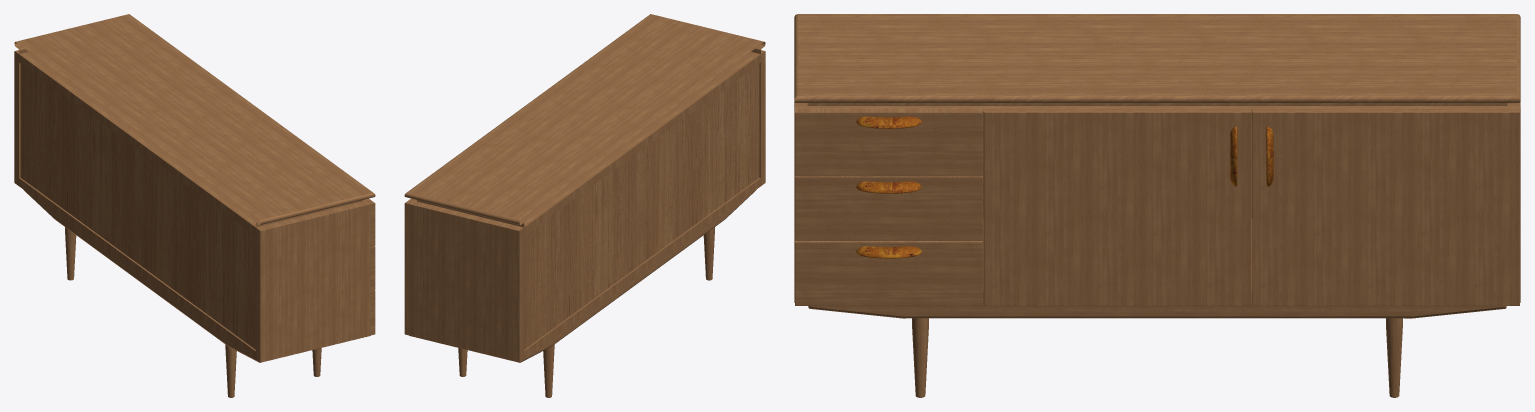
File: sideboard_teak_kung.glb
The picture shows the model from 3 angles, left to right: view 1: azimuth 30°, elevation 25°; view 2: azimuth 150°, elevation 25°; view 3: azimuth 270°, elevation 25°; orthographic projection. The views are drawn at different scales.
Parts seen in each view (by area): view 1: Object_4; view 2: Object_4; view 3: Object_4, Object_2.
Part boxes in pixels (x1,y1,x2,y2): Object_4: (14,14,375,397); Object_4: (404,14,765,397); Object_4: (794,14,1520,397); Object_2: (856,116,1273,258).
Bounding box in the file's own units: 394 × 637 × 1350.
2 materials, 2 textured.
